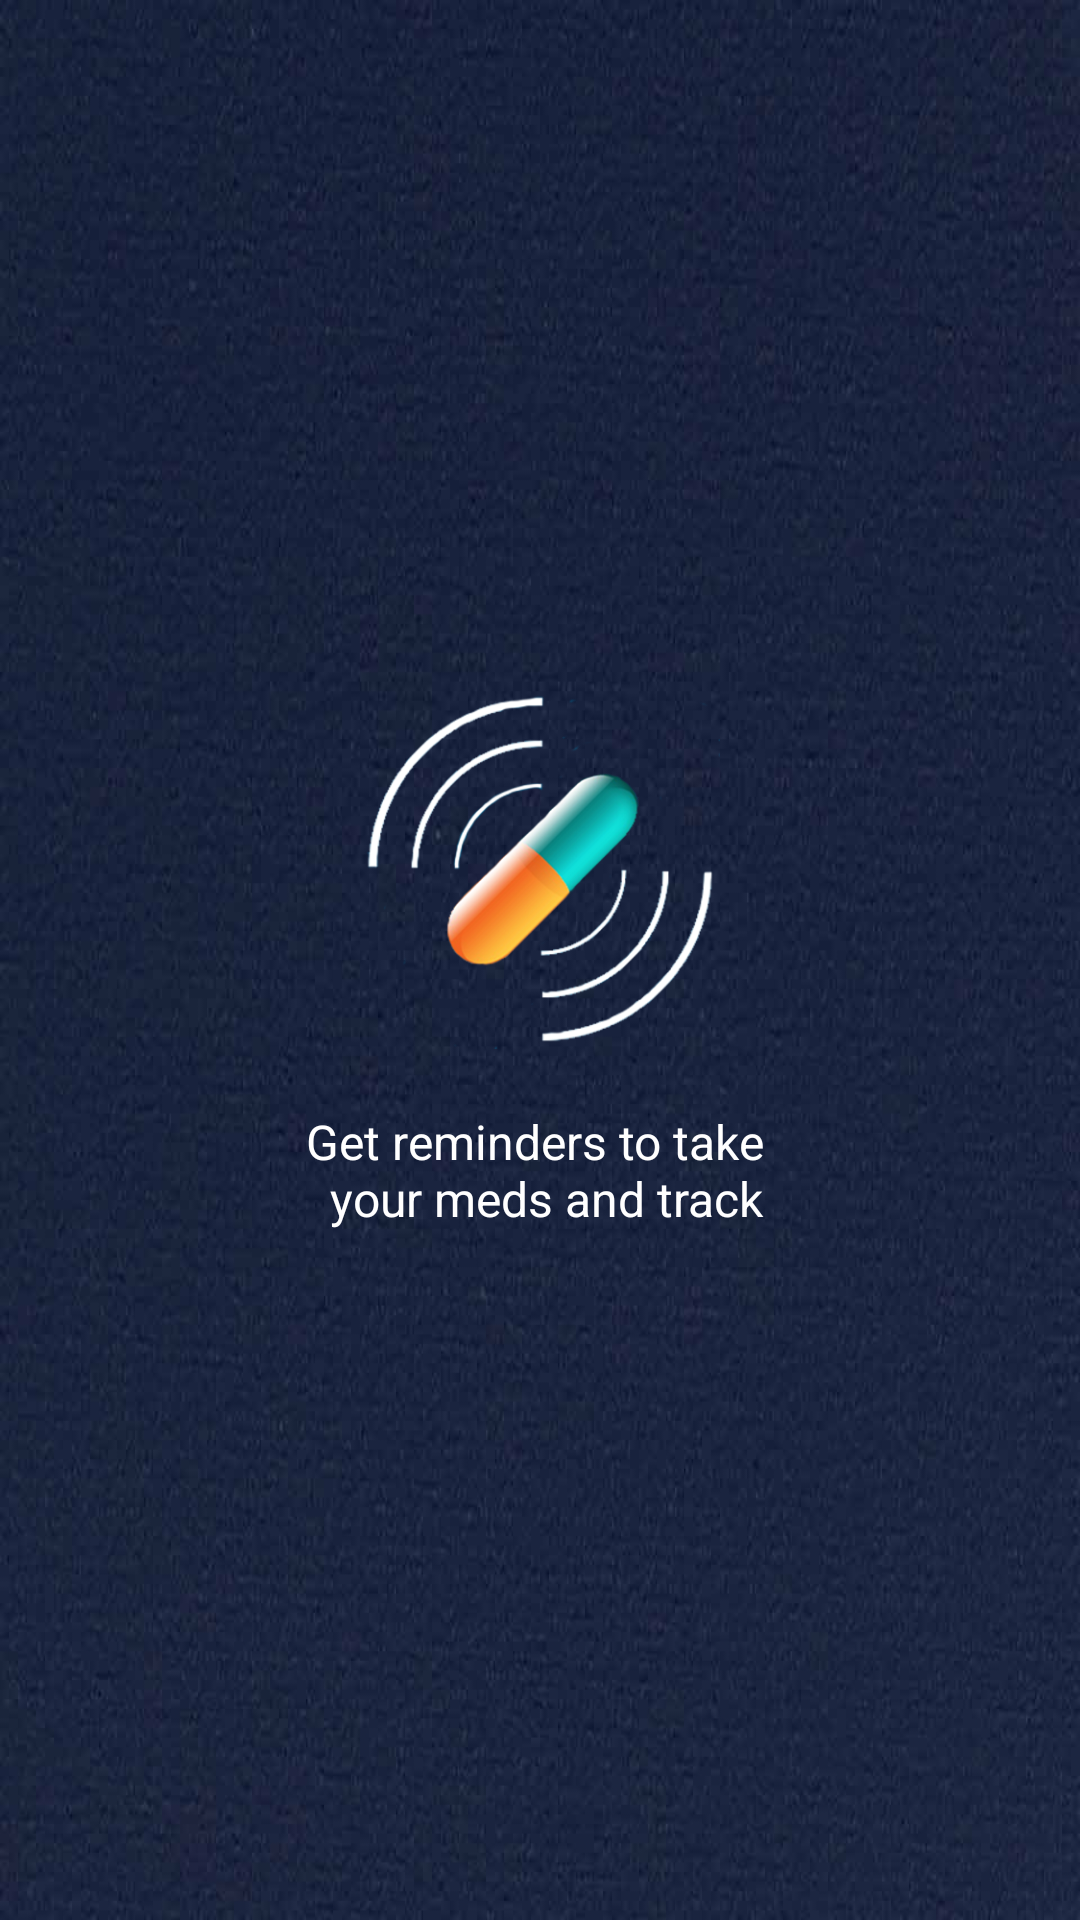

Where to tap for icons on this 1080 × 1920 app screen, as [x,y]:
noti: [540,873]
